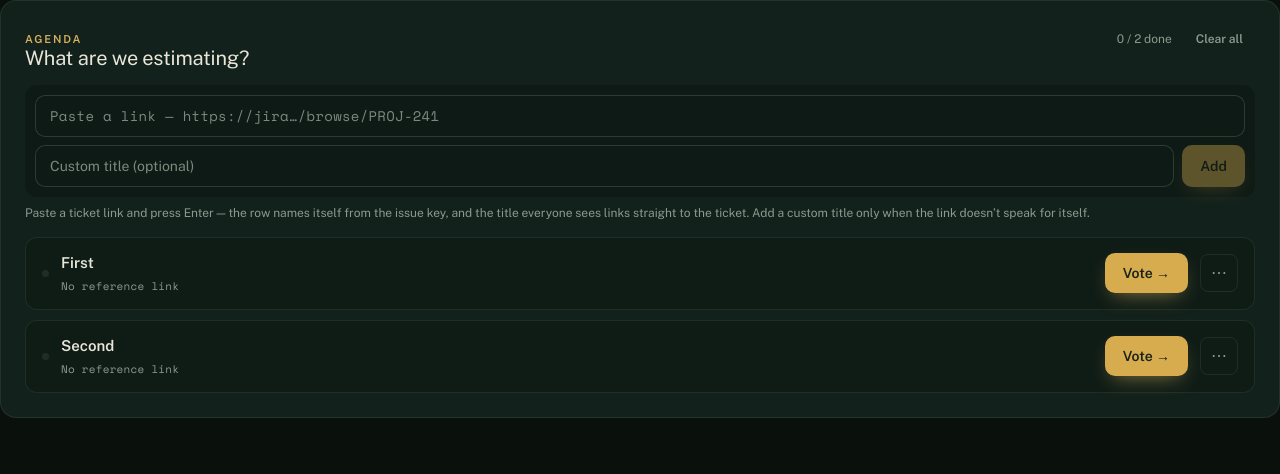
Test case: Agenda › the overflow menu › cannot move the first item up or the last item down
The image size is (1280, 474).
Click the button named "more actions for First": (1219, 273) [1200,254,1238,292]
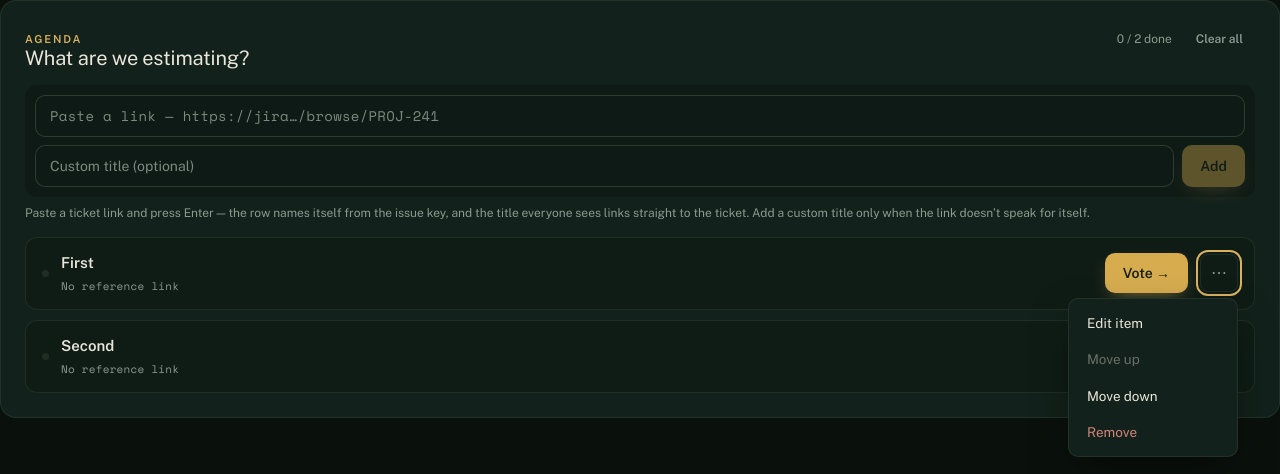
Expected: the button "Move up" is disabled, [1075,341,1231,378]
Expected: the button "Move down" is enabled, [1075,378,1231,414]
